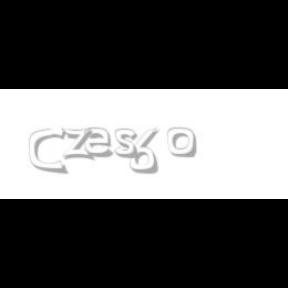6: (130, 128, 158, 176)
C: (30, 128, 66, 174)
e: (84, 128, 118, 158)
o: (168, 128, 196, 158)
s: (114, 128, 142, 160)
z: (61, 128, 97, 160)
